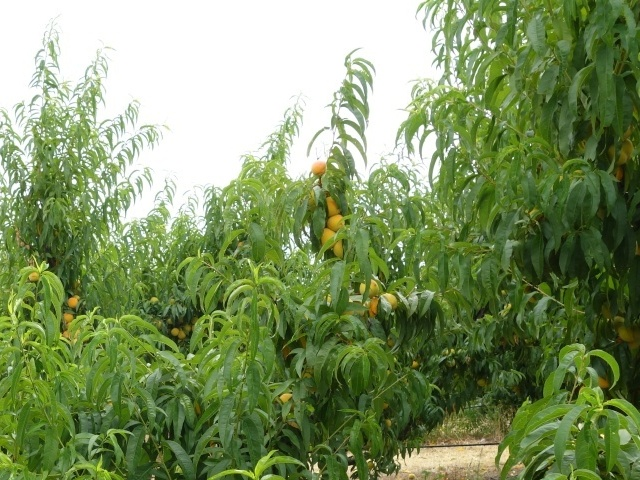peach: (607, 131, 639, 169), (326, 207, 351, 236), (320, 192, 344, 219), (358, 273, 382, 300), (377, 289, 401, 315), (316, 224, 340, 249), (308, 157, 331, 182), (331, 236, 353, 262)
